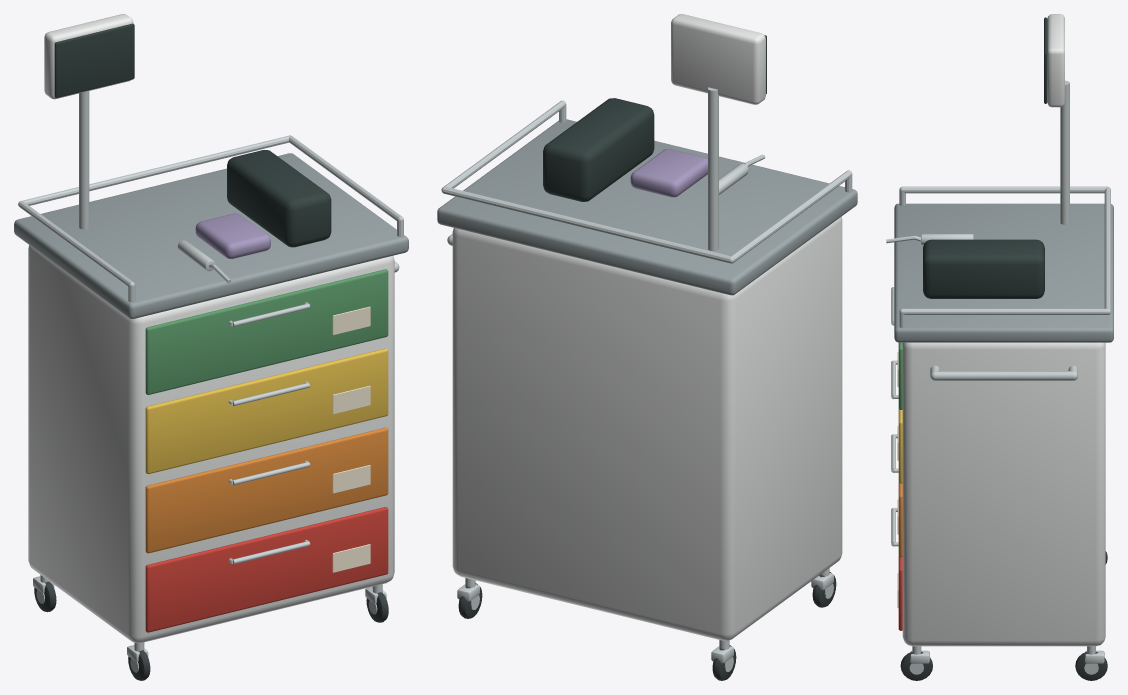
Rendered from sc-difficult-airway-trolley.glb.
The picture shows the model from 3 angles, left to right: view 1: azimuth 30°, elevation 25°; view 2: azimuth 150°, elevation 25°; view 3: azimuth 270°, elevation 25°; orthographic projection. The views are drawn at different scales.
Visible parts, largest first — view 1: sc-difficult-airway-trolley; view 2: sc-difficult-airway-trolley; view 3: sc-difficult-airway-trolley.
Boxes of the visible parts, x1,y1,x2,y2 form: sc-difficult-airway-trolley: (14, 14, 408, 680); sc-difficult-airway-trolley: (437, 14, 857, 680); sc-difficult-airway-trolley: (886, 14, 1113, 680).
Bounding box in the file's own units: 0.767 × 1.5 × 0.5607.
